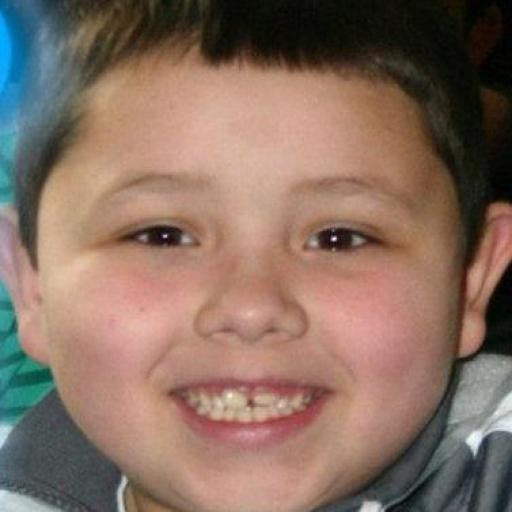Autism: (19, 5, 512, 508)
